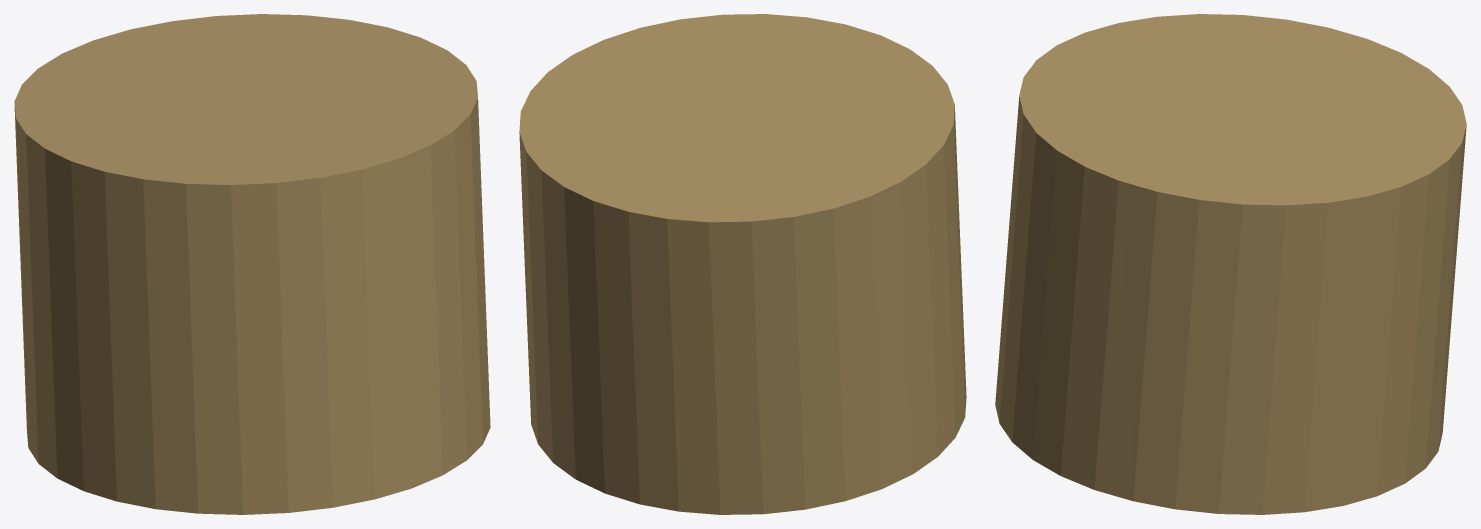
Rendered from right_shoulder_y_link_visual_2.obj.light.glb.
The picture shows the model from 3 angles, left to right: view 1: azimuth 30°, elevation 25°; view 2: azimuth 150°, elevation 25°; view 3: azimuth 270°, elevation 25°; orthographic projection. The views are drawn at different scales.
Size of the model in its own units: 0.0716 by 0.0595 by 0.0753.
